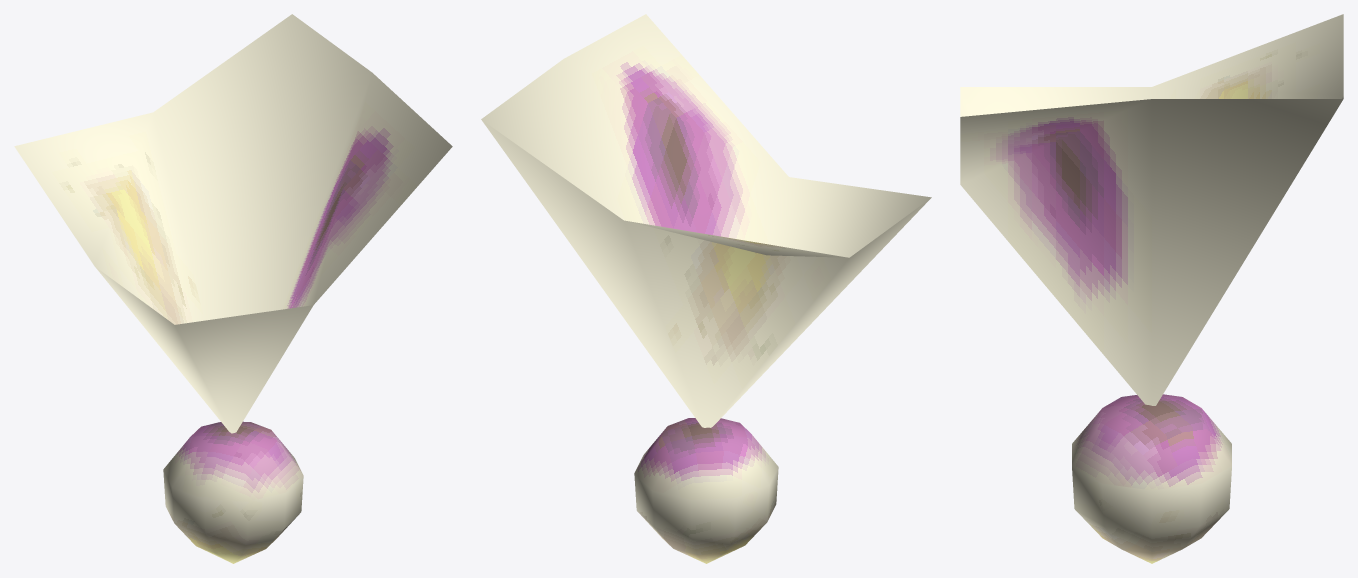
Rendered from Turnip.fbx.
3 views of the same model, side by side, from view 1: azimuth 30°, elevation 25°; view 2: azimuth 150°, elevation 25°; view 3: azimuth 270°, elevation 25° (orthographic). The views are drawn at different scales.
Parts seen in each view (by area): view 1: blast, turnip (1); view 2: blast, turnip (1); view 3: blast, turnip (1).
Boxes of the visible parts, x1,y1,x2,y2 form: blast: (14, 14, 452, 433); turnip (1): (163, 421, 303, 563); blast: (481, 14, 931, 427); turnip (1): (634, 418, 778, 563); blast: (960, 14, 1343, 405); turnip (1): (1072, 394, 1231, 563).
Bounding box in the file's own units: 0.5946 × 0.9345 × 0.5946.
Materials: 2 (2 with a texture image).
